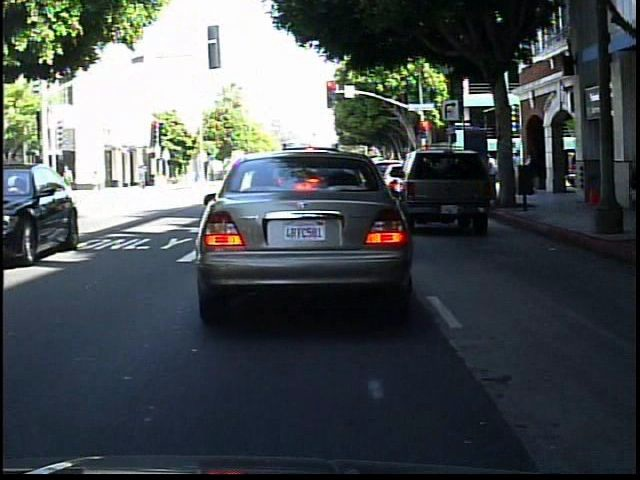person: (618, 141, 639, 220), (590, 144, 612, 217), (62, 161, 78, 198), (32, 168, 47, 206), (49, 163, 62, 206), (136, 162, 153, 192)
